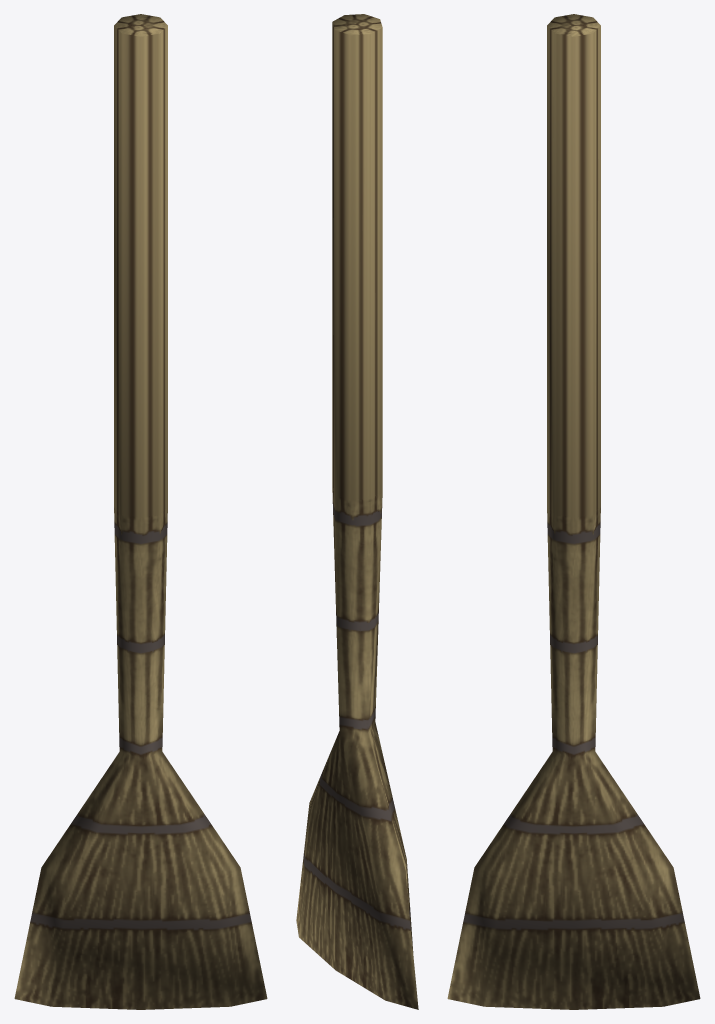
Rendered from sapu.fbx.
The picture shows the model from 3 angles, left to right: view 1: azimuth 90°, elevation 25°; view 2: azimuth 210°, elevation 25°; view 3: azimuth 270°, elevation 25°; orthographic projection. The views are drawn at different scales.
Visible parts, largest first — view 1: Furniture_extra.000; view 2: Furniture_extra.000; view 3: Furniture_extra.000.
Part boxes in pixels (x1,y1,x2,y2): Furniture_extra.000: (14, 14, 267, 1009); Furniture_extra.000: (296, 14, 418, 1009); Furniture_extra.000: (447, 14, 700, 1009).
Bounding box in the file's own units: 8.05 × 160 × 37.73.
Materials: 1 (1 with a texture image).
